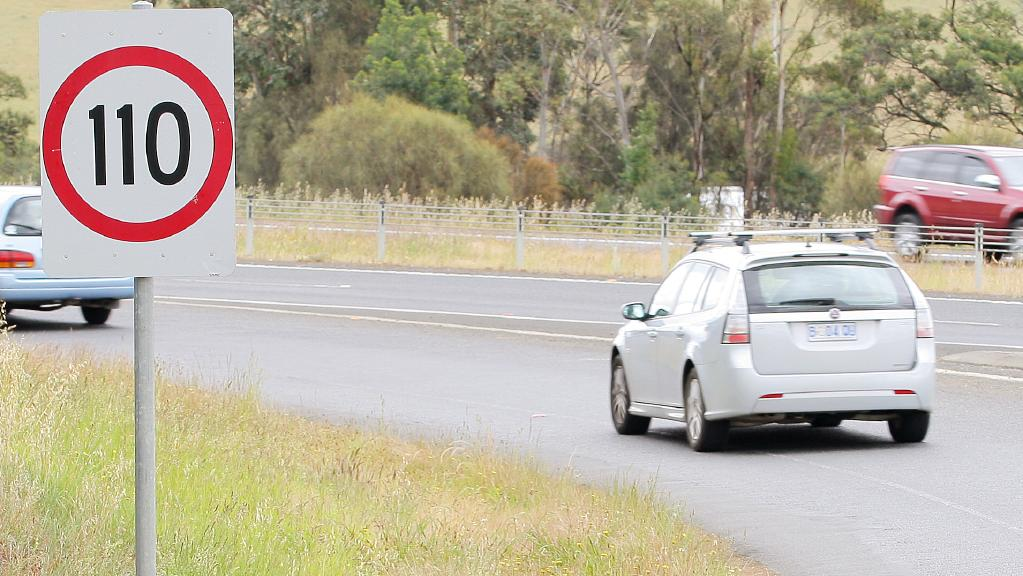Speed_limit_110km: (43, 46, 237, 241)
car: (604, 229, 939, 451)
